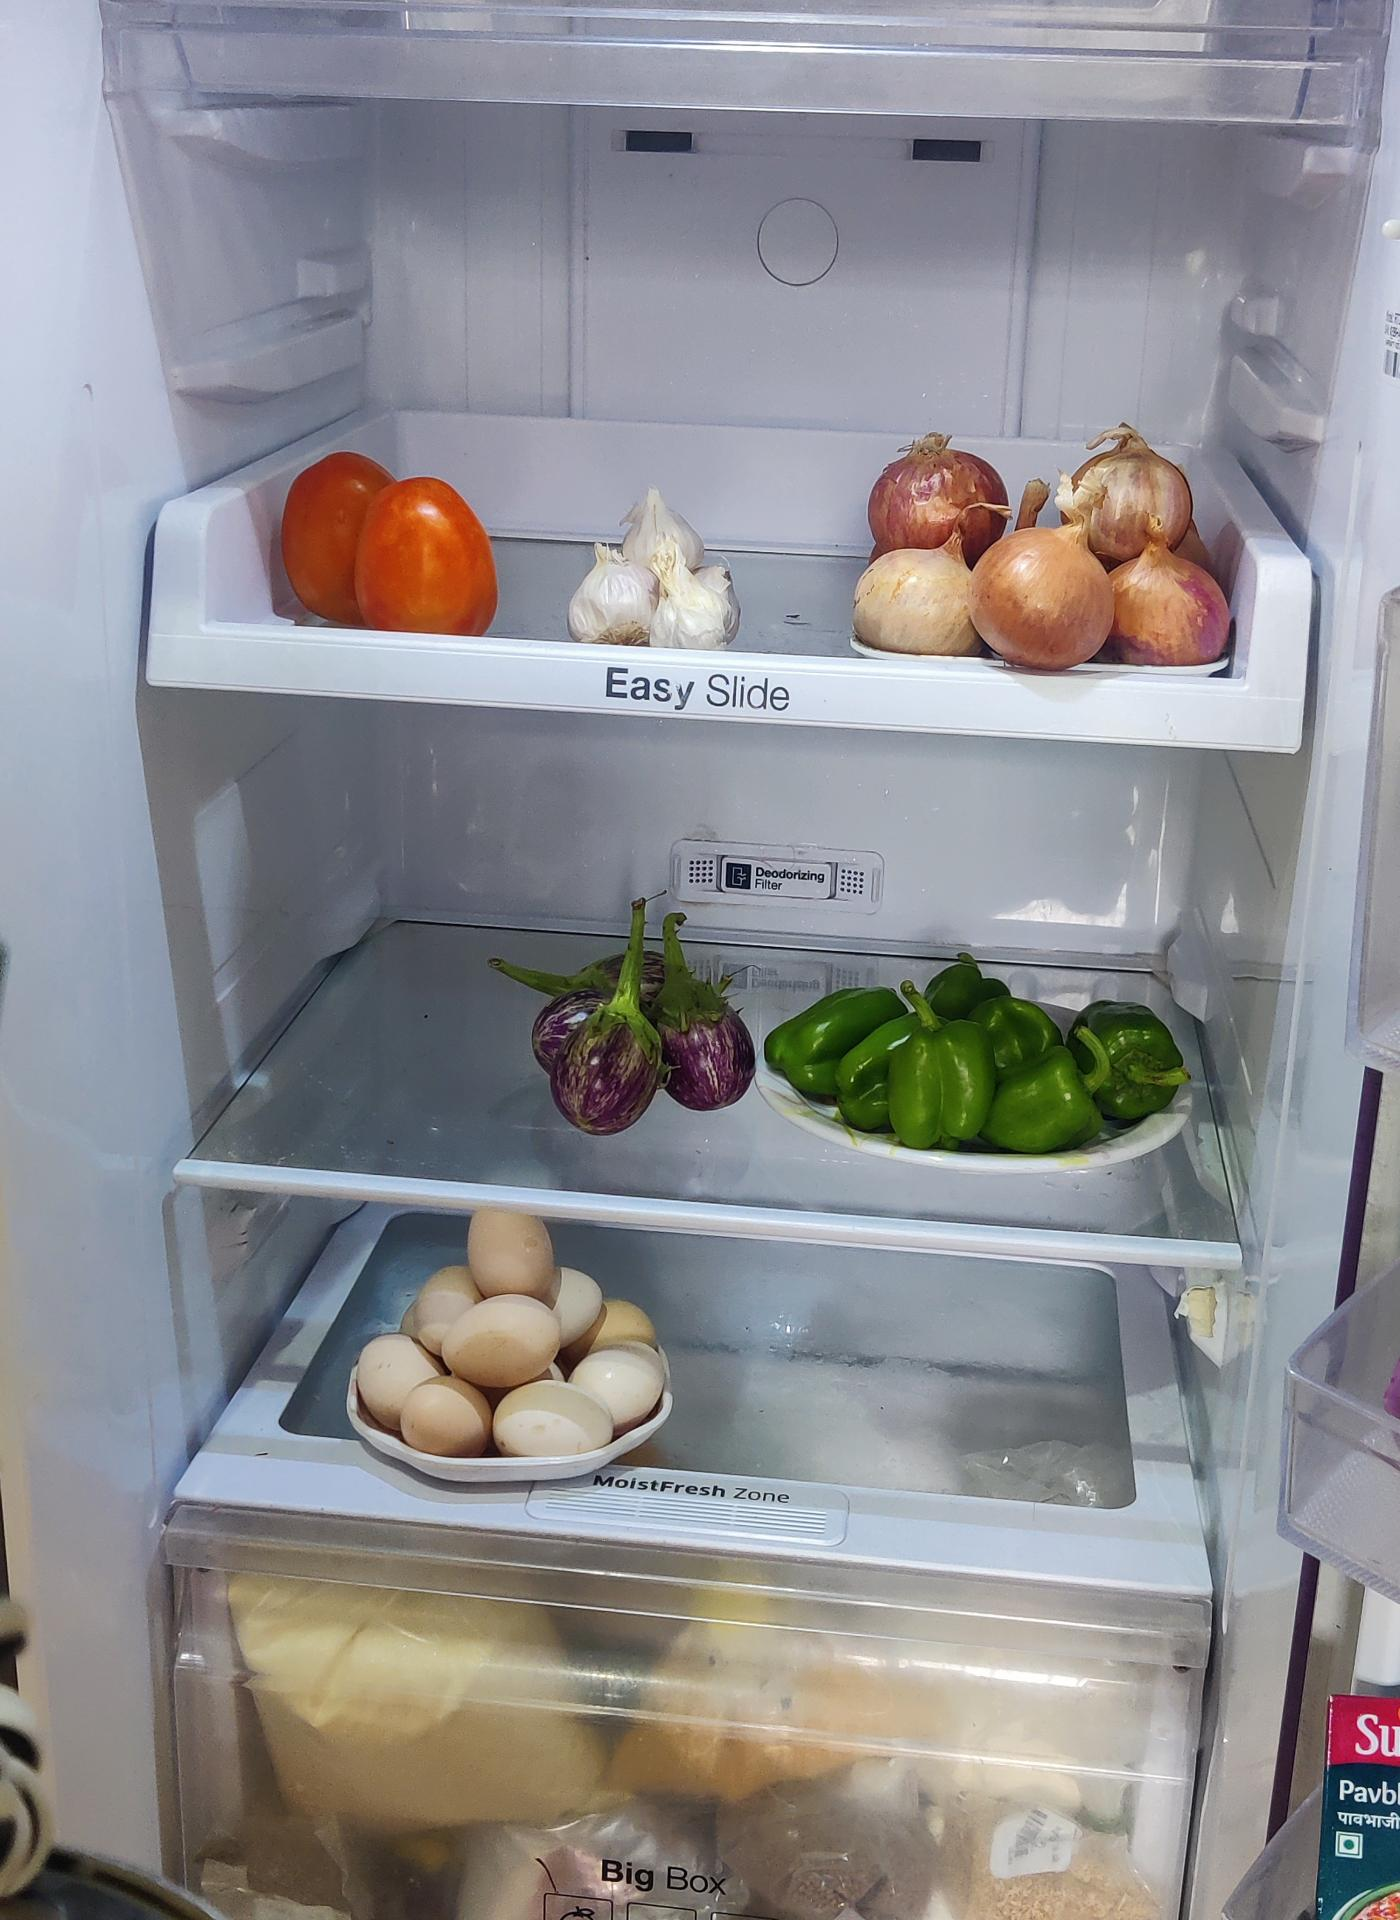brinjal: (529, 899, 751, 1134)
capsicum: (772, 947, 1203, 1149)
egg: (341, 1206, 665, 1476)
garlic: (576, 486, 740, 647)
onion: (856, 438, 1237, 663)
tomato: (277, 443, 491, 634)
